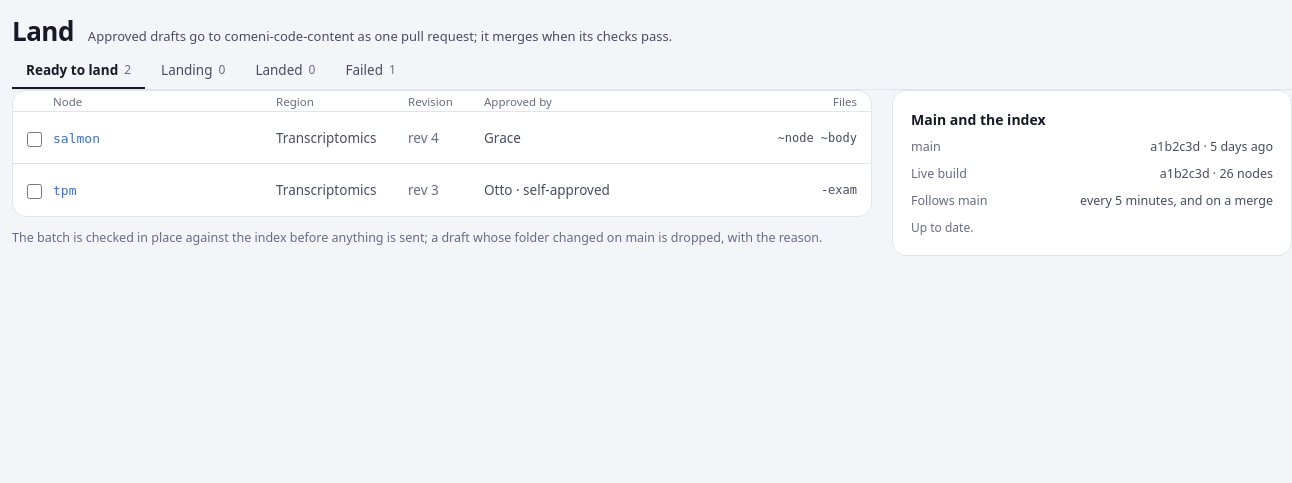
Scenario: LandPage — the landings › says a refused landing's reason in place of its steps
Click the tab "Failed 1".
click(371, 70)  # box [332,51,410,89]
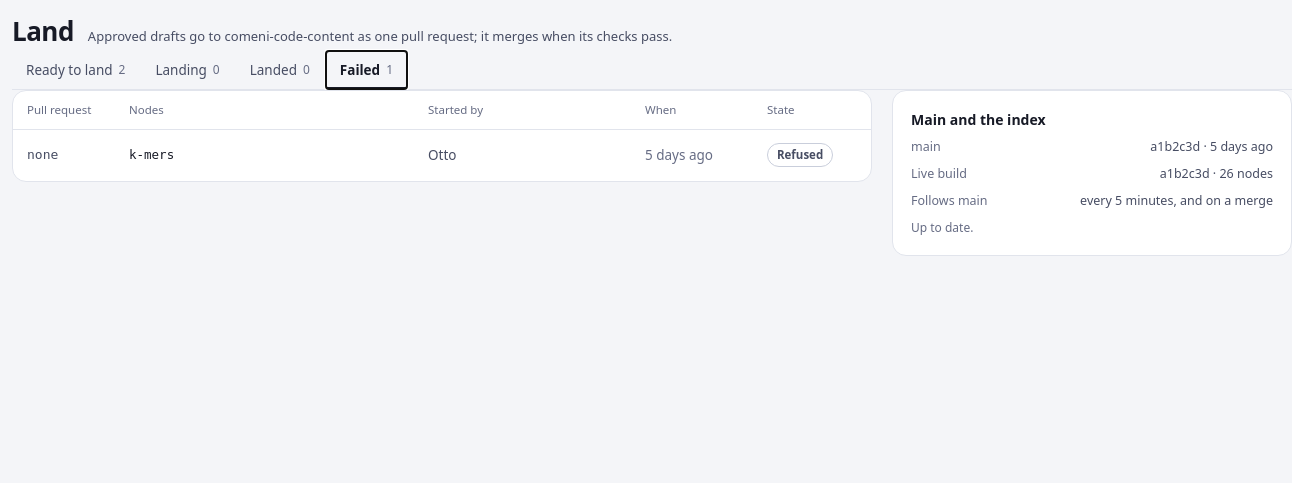
Click the button "none k-mers Otto 5 days ago Refused".
click(442, 154)  # box [13,128,871,180]
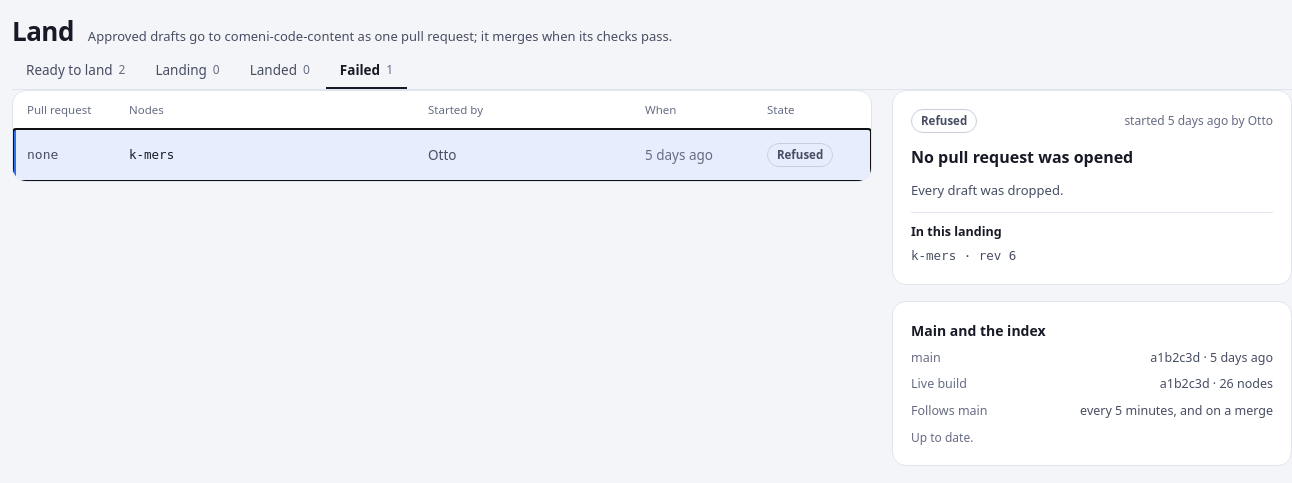
Result: the text "Every draft was dropped." is shown at [911,180,1063,198]
Result: the text "No pull request was opened" is shown at [911,146,1133,168]
